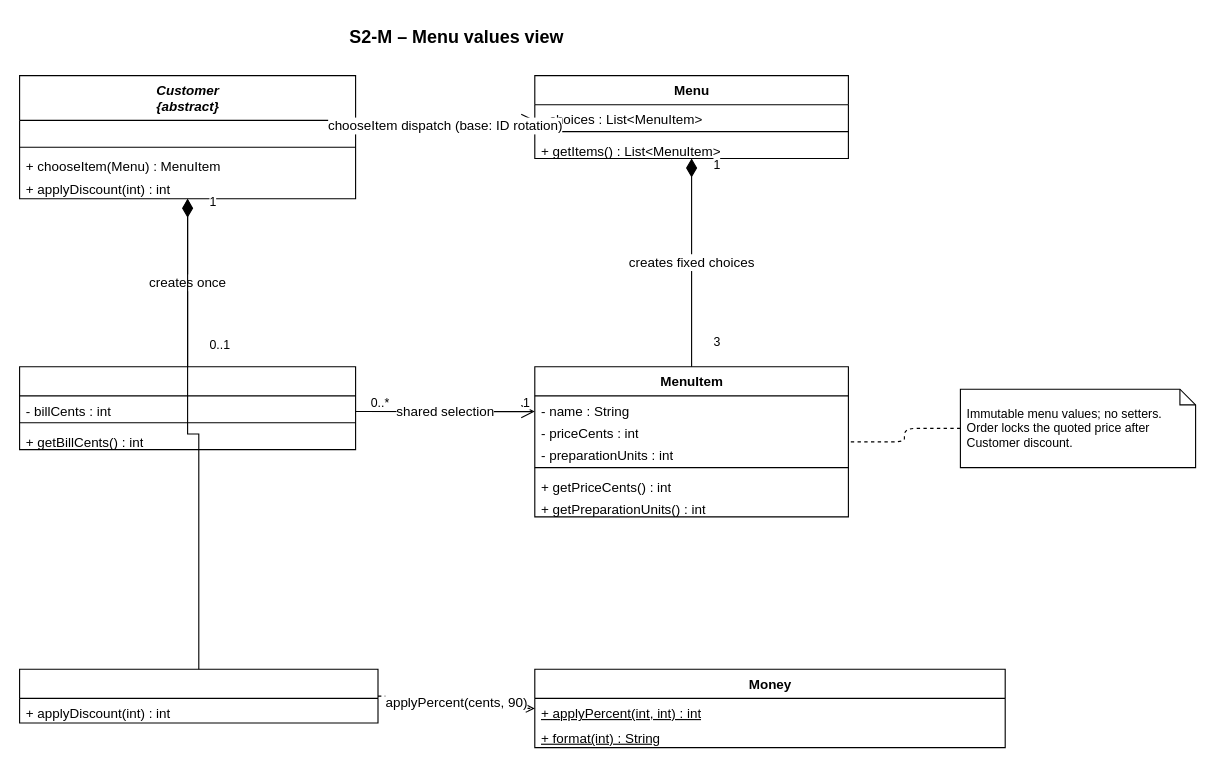
Some shapes in this 1215 by 769 pixel diagram are drawn without their labels. The box of each missing label's shape, as (x1, y1, x2, y2) in pixels:
Order: (18, 366, 356, 450)
VIPCustomer: (18, 668, 378, 723)
